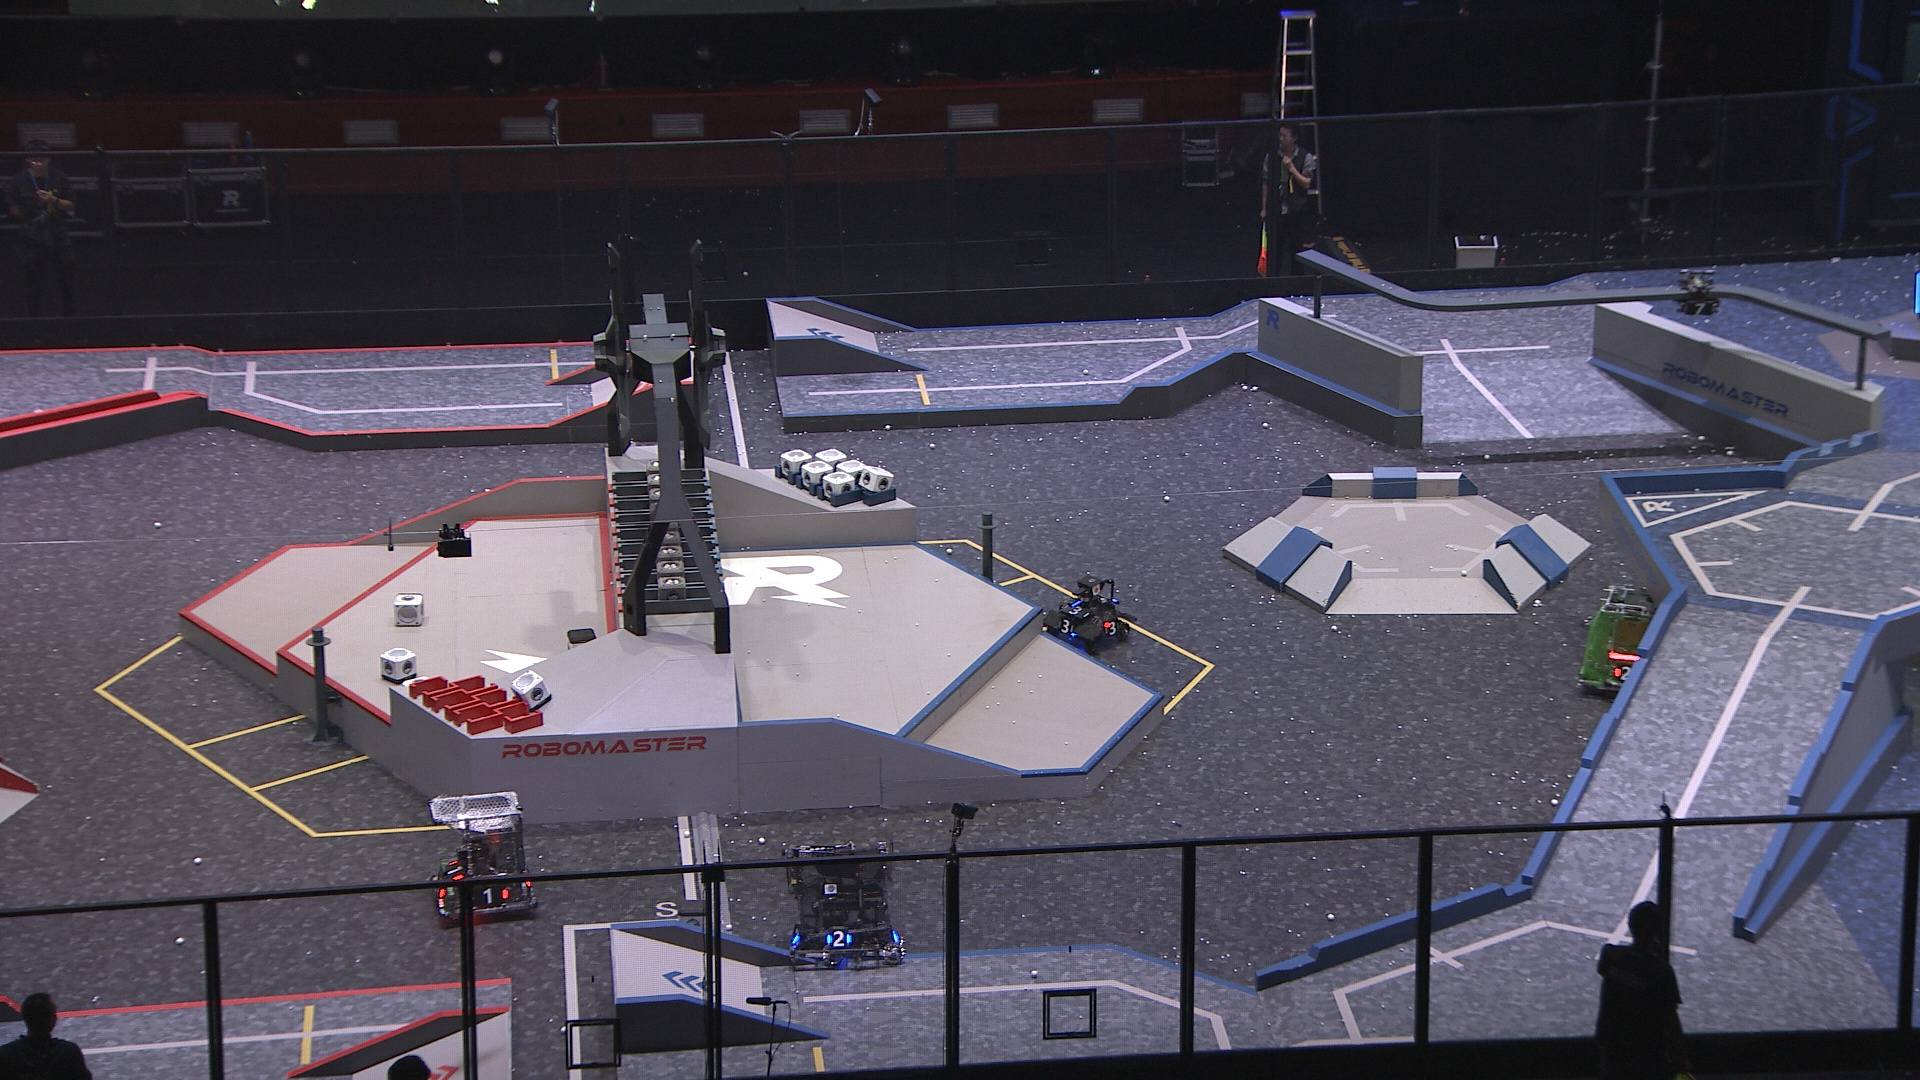armor: (473, 884, 510, 907), (822, 930, 852, 949), (444, 858, 467, 882), (1683, 301, 1714, 316), (1062, 603, 1091, 618), (1613, 665, 1633, 683), (1102, 621, 1122, 636), (1058, 618, 1073, 636)
car: (781, 840, 903, 968), (425, 787, 539, 922), (1575, 582, 1698, 703), (1040, 572, 1135, 655)
watcher: (1677, 268, 1724, 318)
